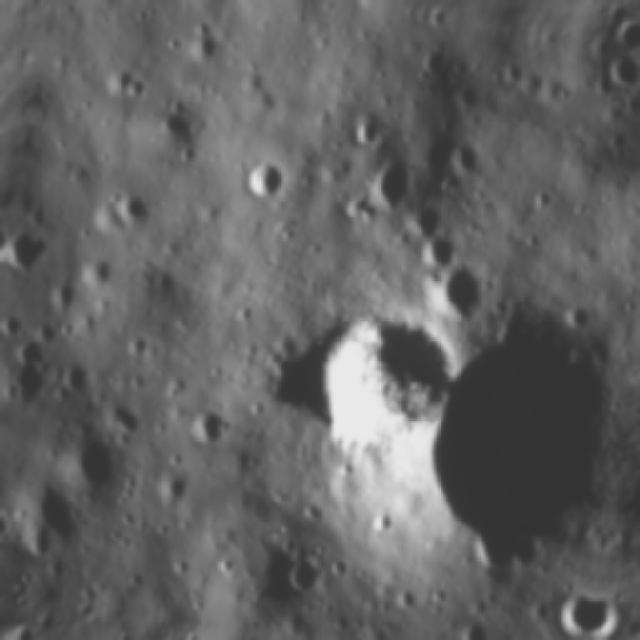crater: (414, 290, 640, 581), (288, 279, 470, 458), (56, 423, 132, 502), (352, 148, 423, 227), (426, 255, 499, 328), (232, 149, 297, 216), (181, 398, 239, 453), (105, 179, 161, 235), (544, 577, 593, 640), (411, 225, 464, 278), (4, 225, 53, 280), (276, 551, 326, 600), (601, 48, 640, 97), (415, 43, 454, 83), (385, 578, 423, 616), (453, 614, 493, 640), (0, 312, 26, 343), (0, 504, 12, 546)
